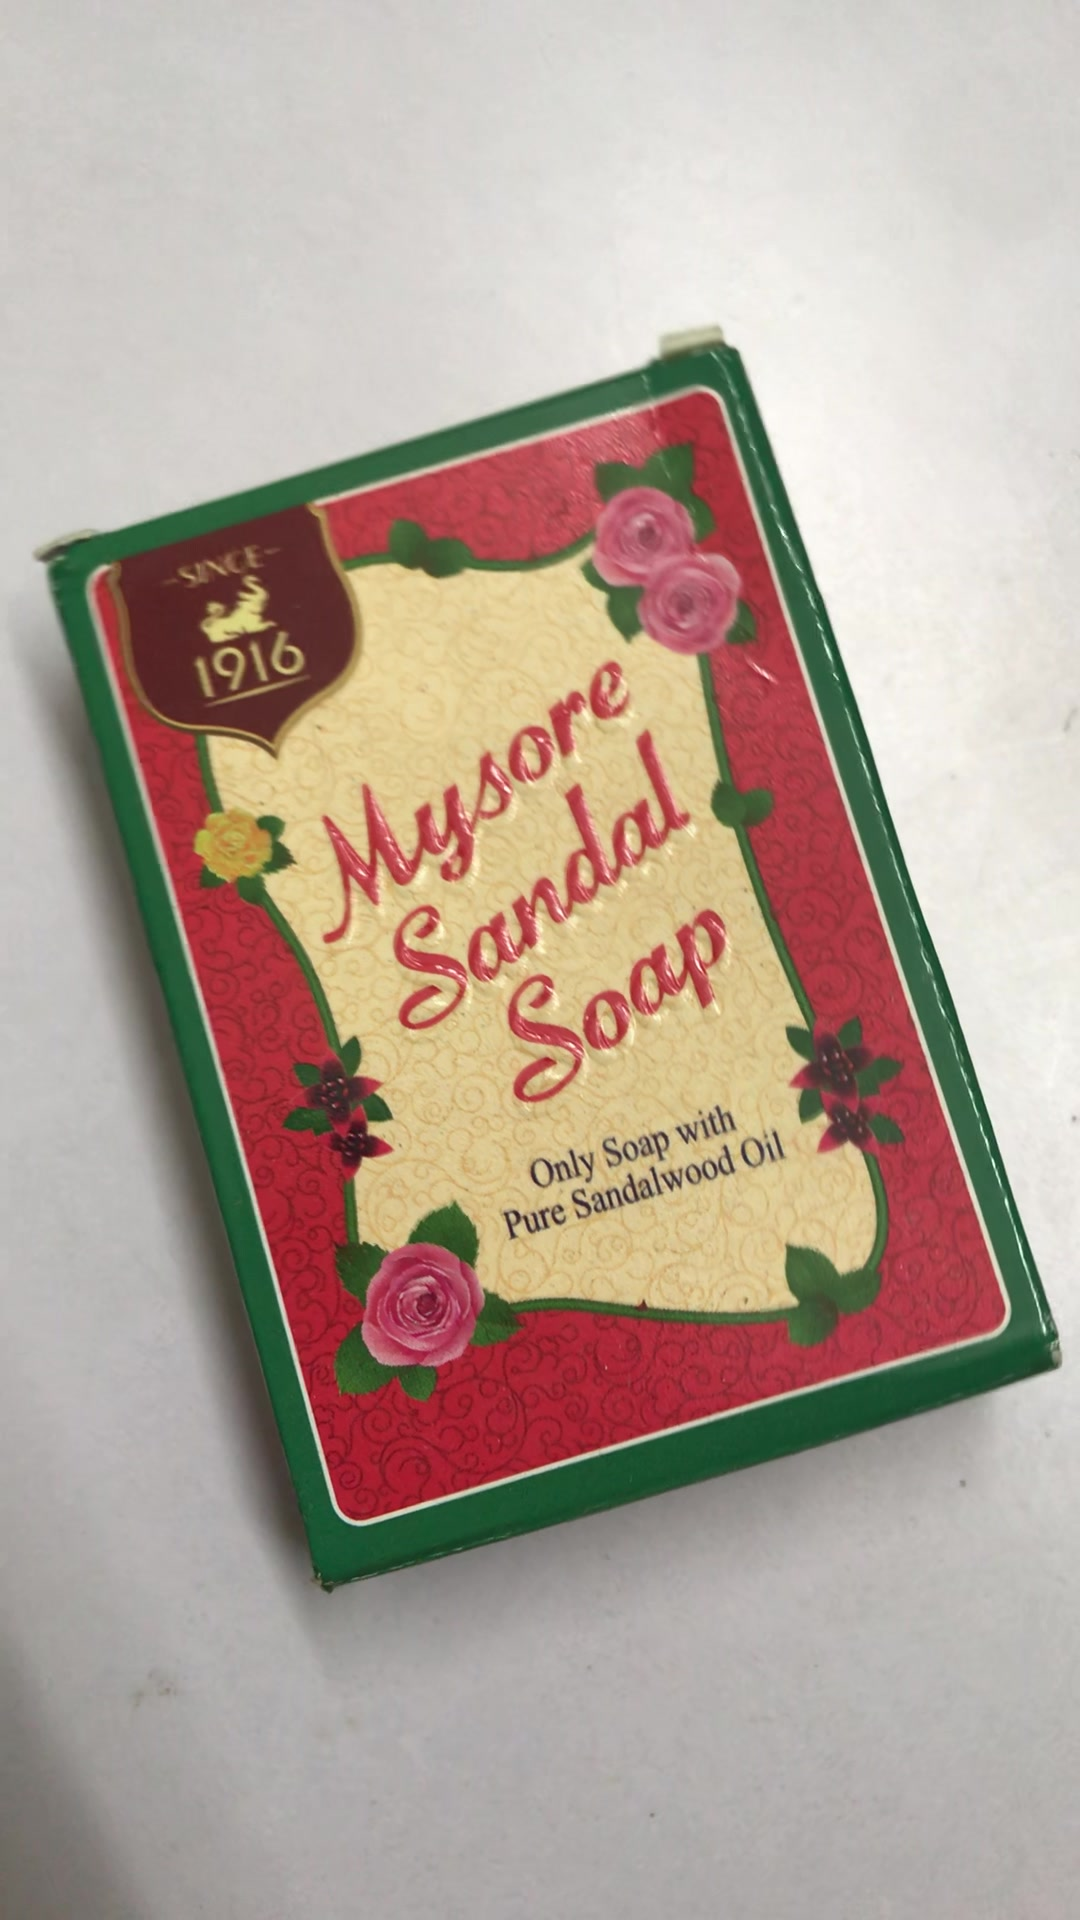mysore sandal soap: (49, 344, 1062, 1594)
